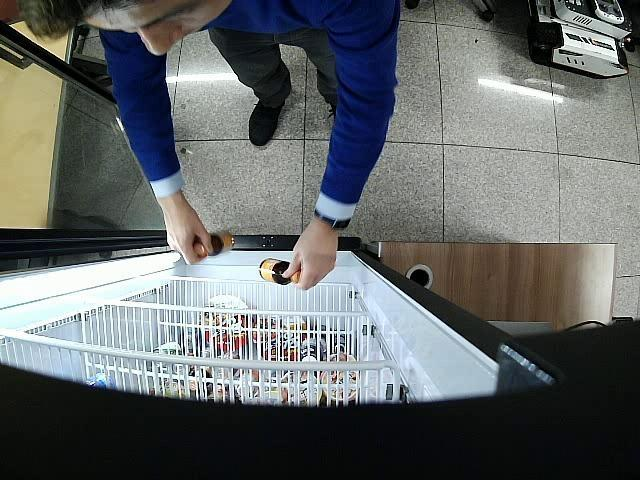17_vita500: (260, 257, 299, 285), (194, 232, 234, 258)
